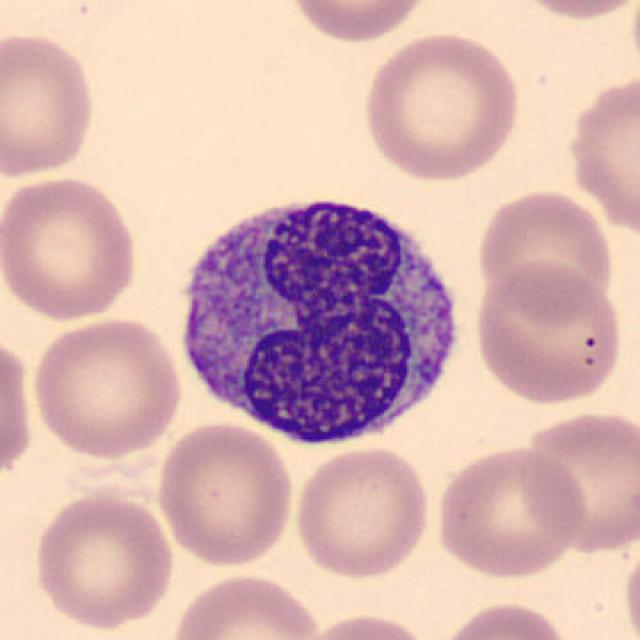Monocyte: (167, 176, 469, 457)
RBC: (358, 28, 524, 184), (470, 259, 628, 407), (27, 314, 185, 462), (153, 420, 299, 570), (0, 171, 144, 323), (431, 441, 588, 580), (28, 487, 178, 631), (473, 185, 619, 321), (290, 443, 434, 580), (518, 406, 638, 556), (0, 28, 100, 180), (562, 67, 640, 245), (167, 569, 325, 640), (282, 0, 436, 46), (433, 597, 574, 640), (0, 330, 36, 485), (294, 610, 436, 640), (506, 0, 640, 23), (620, 534, 640, 640)
